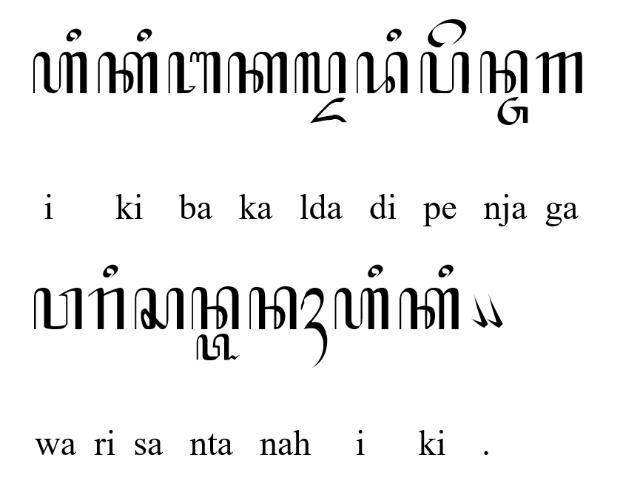_d: (311, 96, 347, 123)
_h1: (300, 287, 328, 368)
_j: (497, 96, 529, 125)
_t: (196, 334, 240, 360)
b: (169, 50, 221, 94)
d: (356, 50, 408, 94)
e: (428, 18, 467, 48)
g: (534, 51, 584, 94)
h: (32, 50, 88, 94), (334, 286, 388, 330)
i: (66, 27, 82, 42), (137, 28, 153, 42), (386, 28, 402, 42), (102, 264, 118, 278), (438, 264, 454, 278), (368, 264, 382, 278)
k: (96, 50, 158, 94), (227, 50, 289, 94), (398, 286, 458, 330)
kom: (470, 294, 488, 328), (486, 294, 502, 328)
l: (294, 51, 346, 95)
n: (248, 286, 298, 330), (480, 50, 528, 94), (191, 286, 239, 330)
p: (420, 51, 470, 94)
r: (88, 288, 124, 330)
s: (134, 287, 184, 331)
w: (34, 288, 82, 330)
